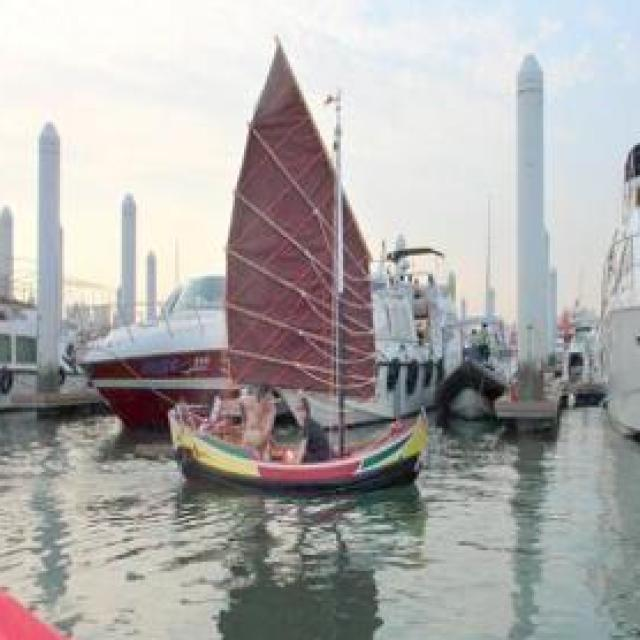sailboat: (169, 27, 438, 495)
